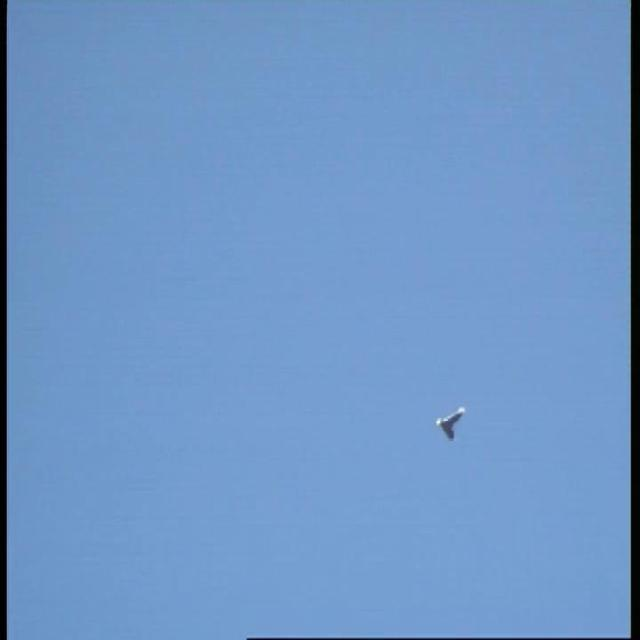drone: (431, 398, 470, 444)
